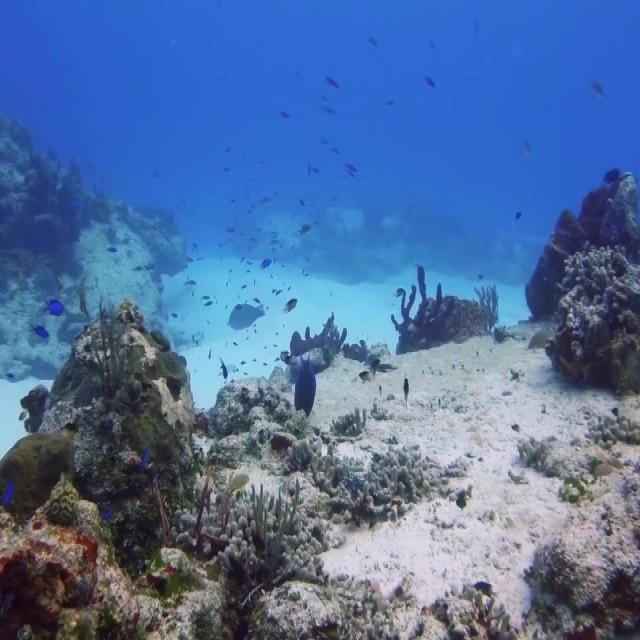fish: (295, 352, 316, 417), (29, 300, 64, 336)
reefs: (557, 246, 638, 361), (47, 481, 79, 523)
sea-floor: (39, 301, 195, 512), (0, 434, 75, 518)
